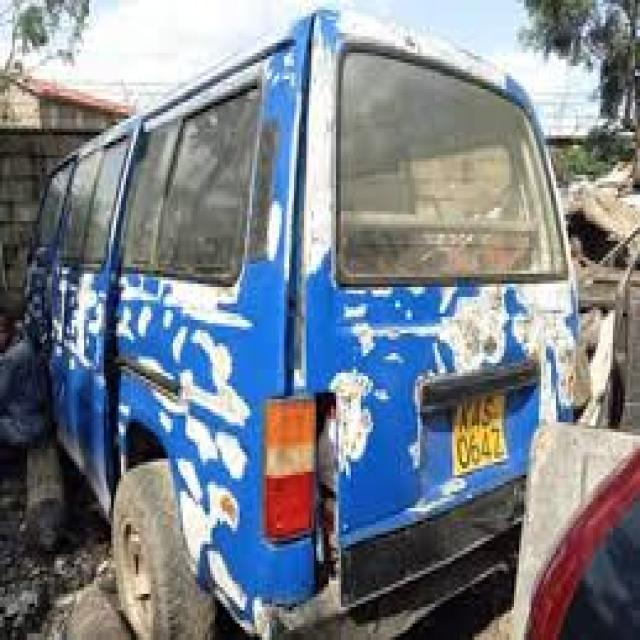matatu: (20, 6, 613, 640)
